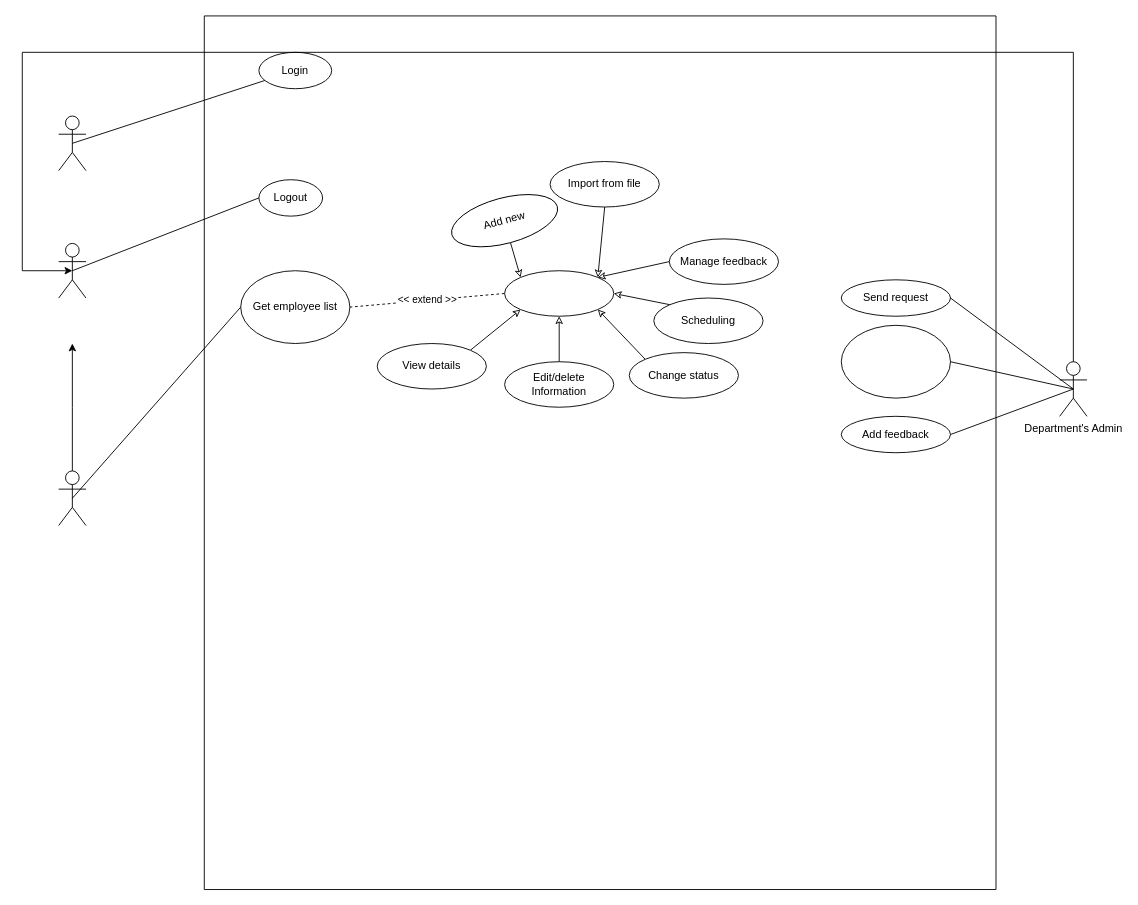
Some shapes in this 1138 by 905 pixel diagram are drawn without their labels. The centre of each missing label's shape, as x and y in pixels:
"Authorized User" belongs at (72,270).
"HR Manager" belongs at (72,498).
"Manage Employee" belongs at (559,293).
"Receives: updates status/matches" belongs at (895,361).
"Unauthorized User" belongs at (72,143).
